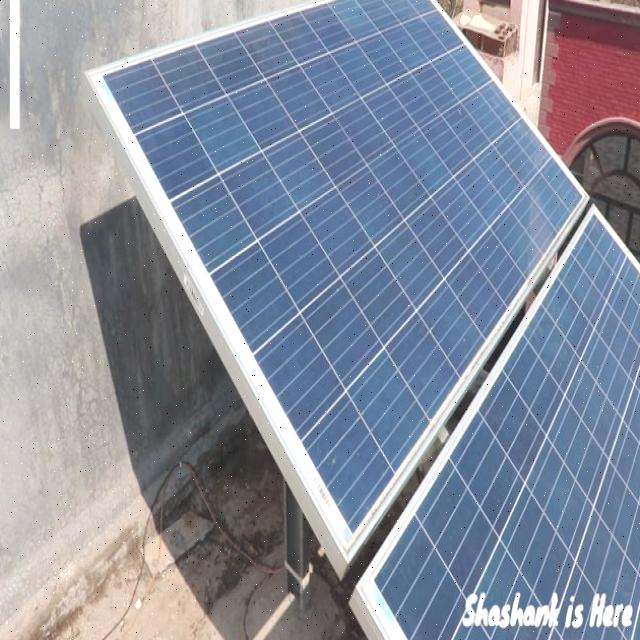Normal Solar Panel: (86, 0, 590, 578), (352, 207, 640, 640)
